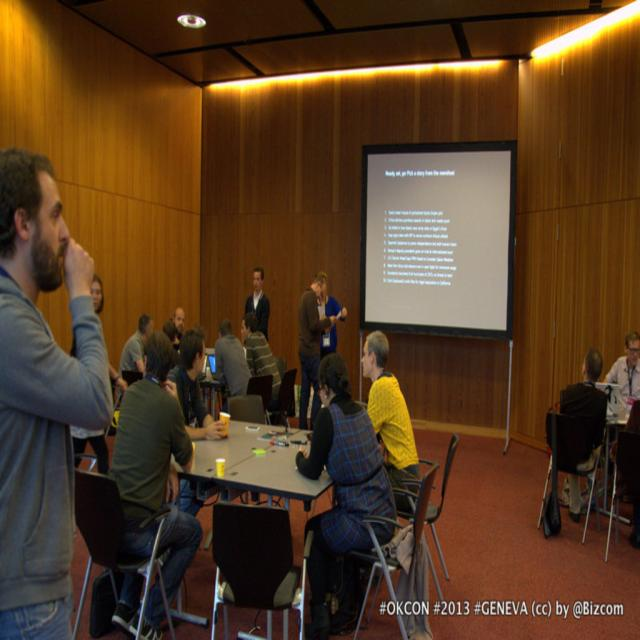chair: (72, 468, 177, 639), (348, 461, 439, 638), (210, 500, 304, 640), (540, 400, 608, 548), (422, 432, 459, 598), (604, 426, 640, 564), (266, 368, 298, 426), (228, 393, 268, 424)
desk: (165, 405, 347, 617)
person: (1, 149, 112, 633), (294, 351, 398, 638), (108, 331, 204, 621), (361, 330, 420, 519), (298, 270, 348, 432), (170, 327, 222, 432), (214, 318, 250, 399), (602, 329, 640, 401), (118, 312, 154, 382), (243, 266, 270, 339)
tv: (359, 142, 517, 337)
